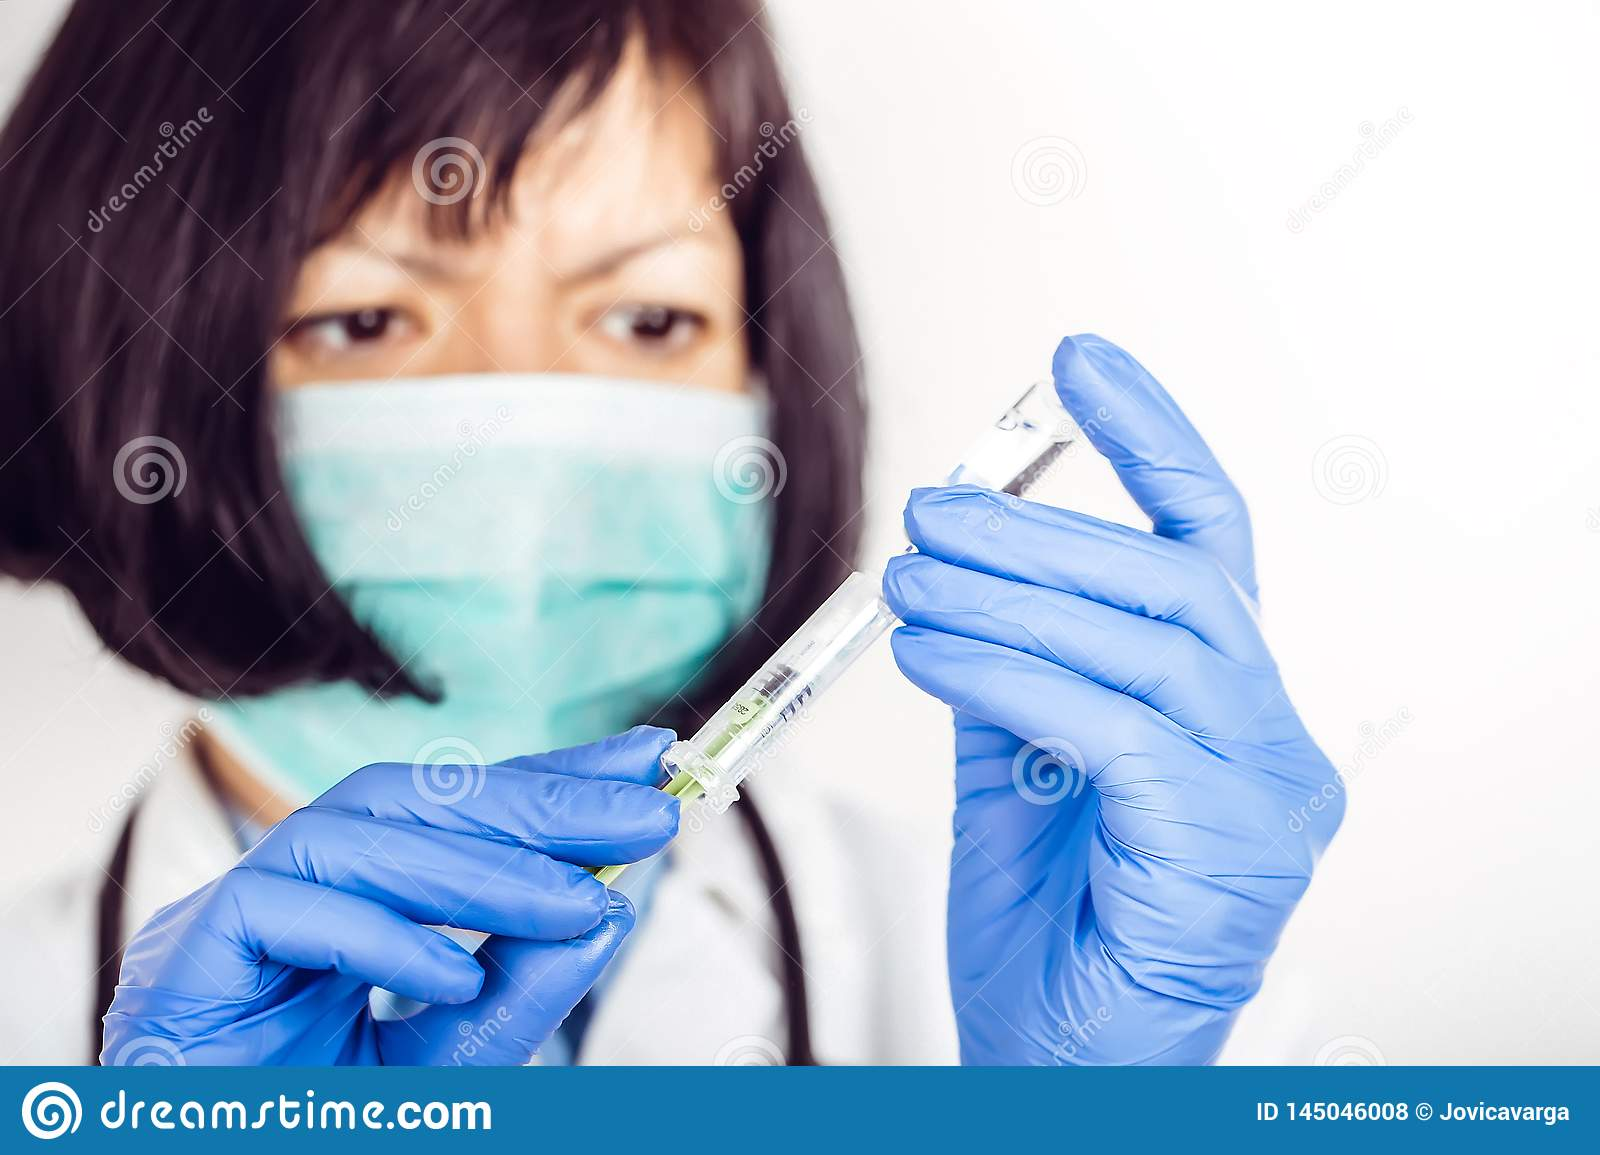mask: (214, 383, 771, 828)
